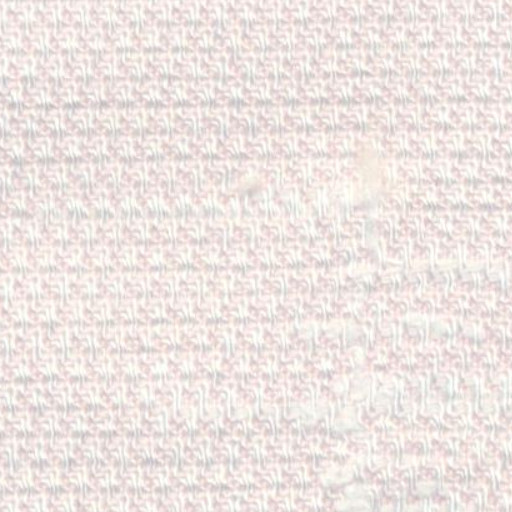DuanSha: (260, 119, 425, 503)
